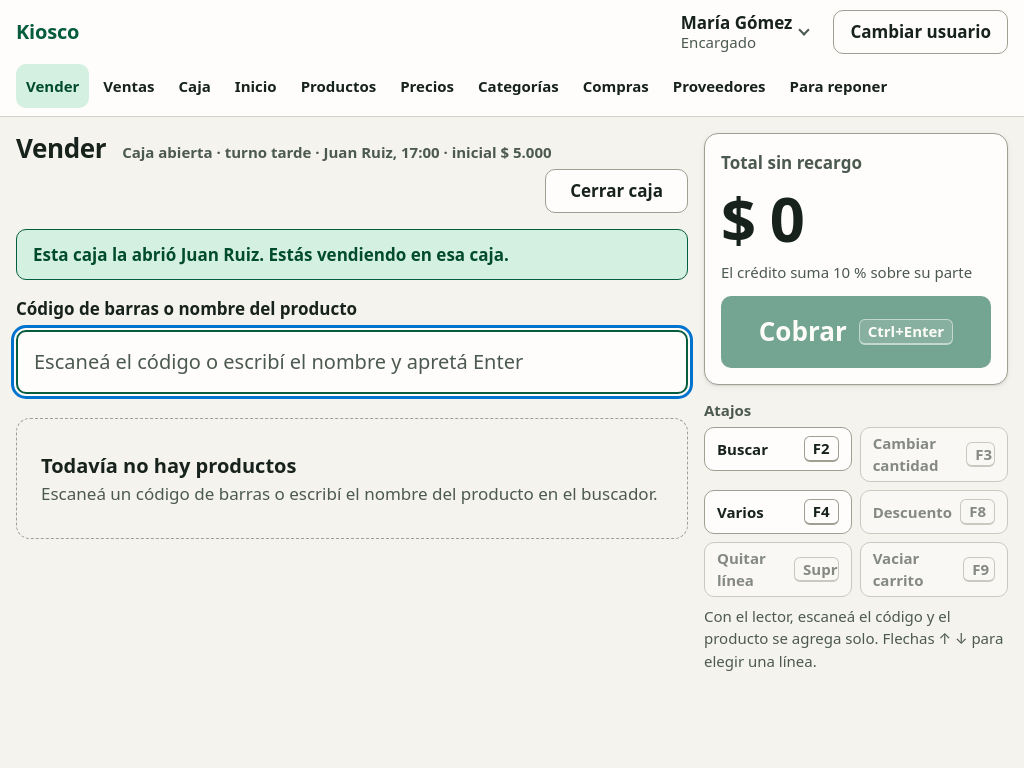
it: cierre de caja a ciegas › no deja cerrar con un carrito sin cobrar en la pantalla de venta
Type "7790001" into the dropdown.
click(352, 362); type("7790001")  # box [16,330,688,394]
Then press Enter
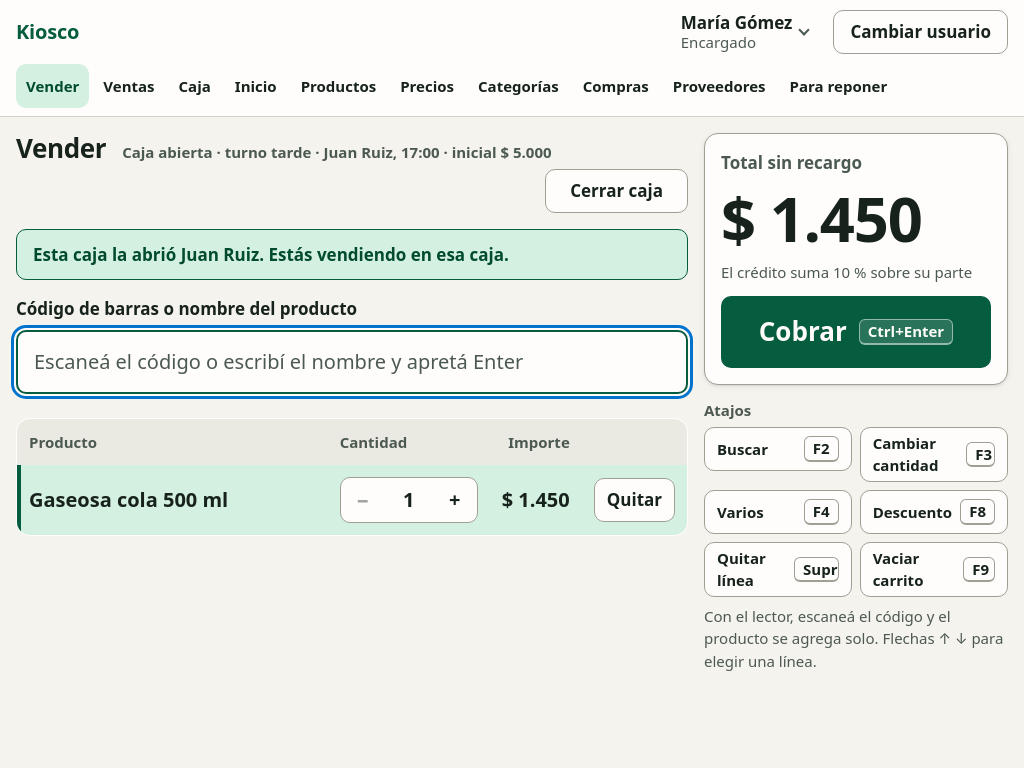
Now the text "Gaseosa cola 500 ml" is shown, box [29,486,228,513]
Click the button "Cerrar caja".
click(617, 191)  # box [545,169,688,213]
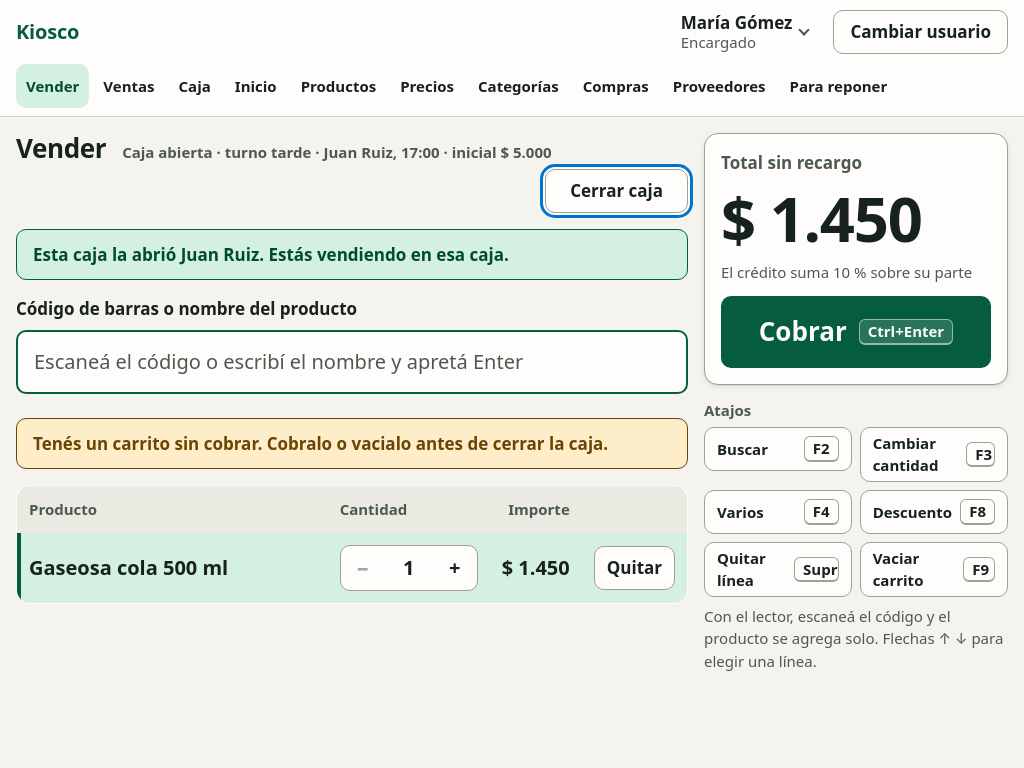
Now the text "Tenés un carrito sin cobrar. Cobralo o vacialo antes de cerrar la caja." is shown, box [16,418,688,469]
